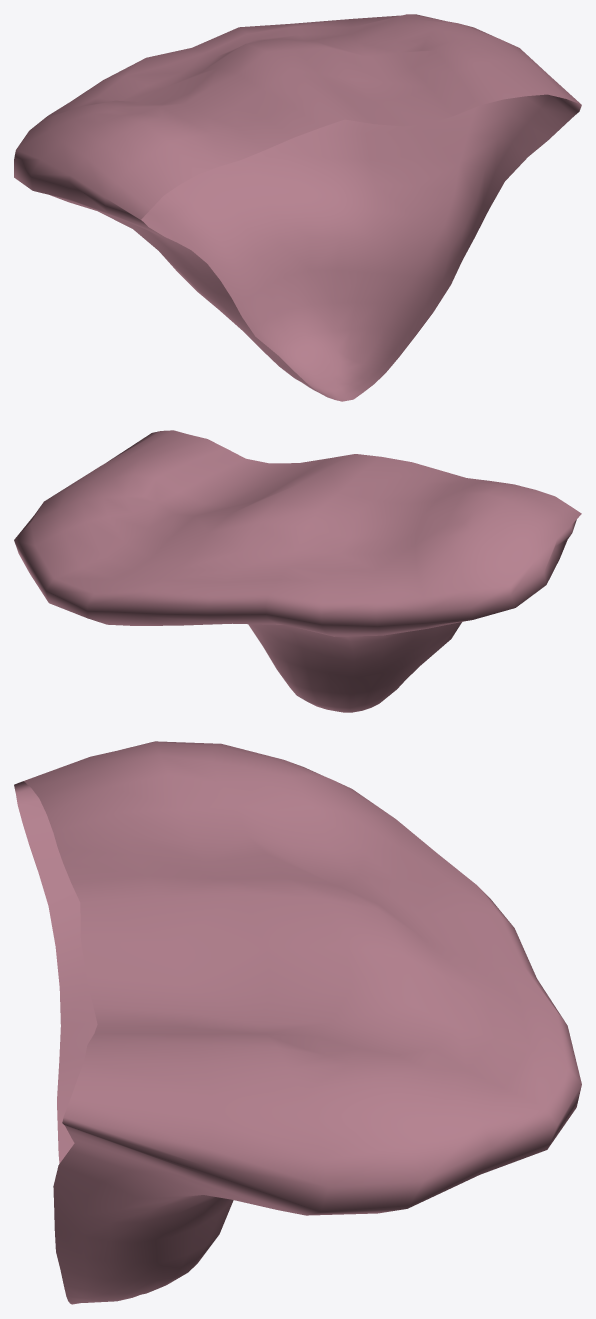
The model's file is table coral2.fbx.
3 views of the same model, one above another, from view 1: azimuth 30°, elevation 25°; view 2: azimuth 150°, elevation 25°; view 3: azimuth 270°, elevation 25° (orthographic). The views are drawn at different scales.
Parts seen in each view (by area): view 1: pCylinder8; view 2: pCylinder8; view 3: pCylinder8.
Boxes of the visible parts, bbox=[...] form: pCylinder8: bbox=[14, 14, 581, 401]; pCylinder8: bbox=[14, 430, 581, 712]; pCylinder8: bbox=[14, 741, 581, 1304].
Bounding box in the file's own units: 0.1947 × 0.1044 × 0.1267.
